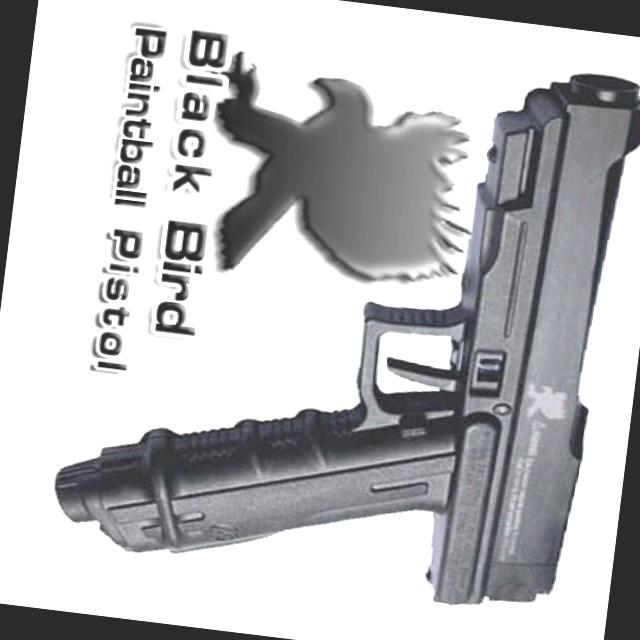handgun: (45, 12, 639, 622)
